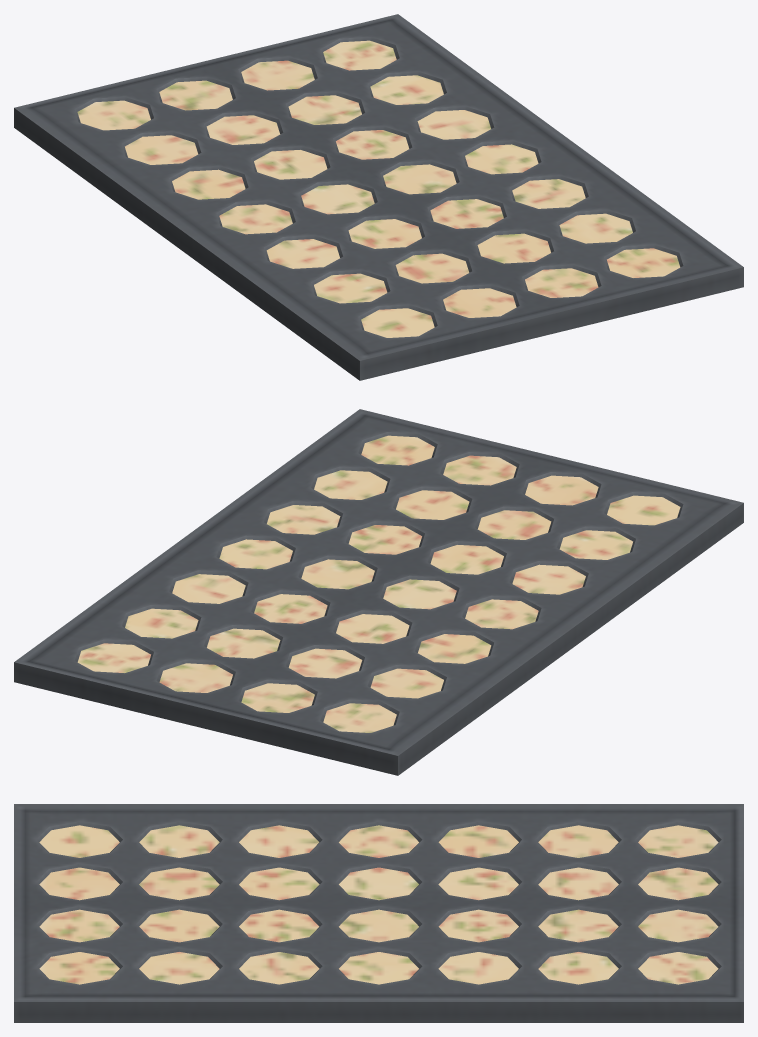
The model's file is jsf_IronPlate_Takoyaki_02.fbx.
3 renders of one model, top to bottom at view 1: azimuth 30°, elevation 25°; view 2: azimuth 150°, elevation 25°; view 3: azimuth 270°, elevation 25°, orthographic. The views are drawn at different scales.
Visible parts, largest first — view 1: jsf_IronPlate_Takoyaki_02; view 2: jsf_IronPlate_Takoyaki_02; view 3: jsf_IronPlate_Takoyaki_02.
Boxes of the visible parts, <box> form: jsf_IronPlate_Takoyaki_02: <box>14,14,743,380</box>; jsf_IronPlate_Takoyaki_02: <box>14,409,743,775</box>; jsf_IronPlate_Takoyaki_02: <box>14,804,743,1022</box>.
Size of the model in its own units: 22.38 by 2.15 by 34.9.
